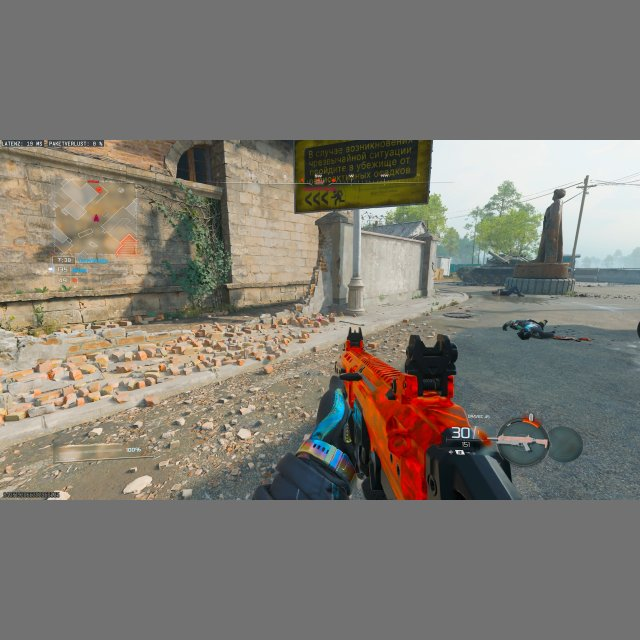player: (502, 317, 550, 339)
